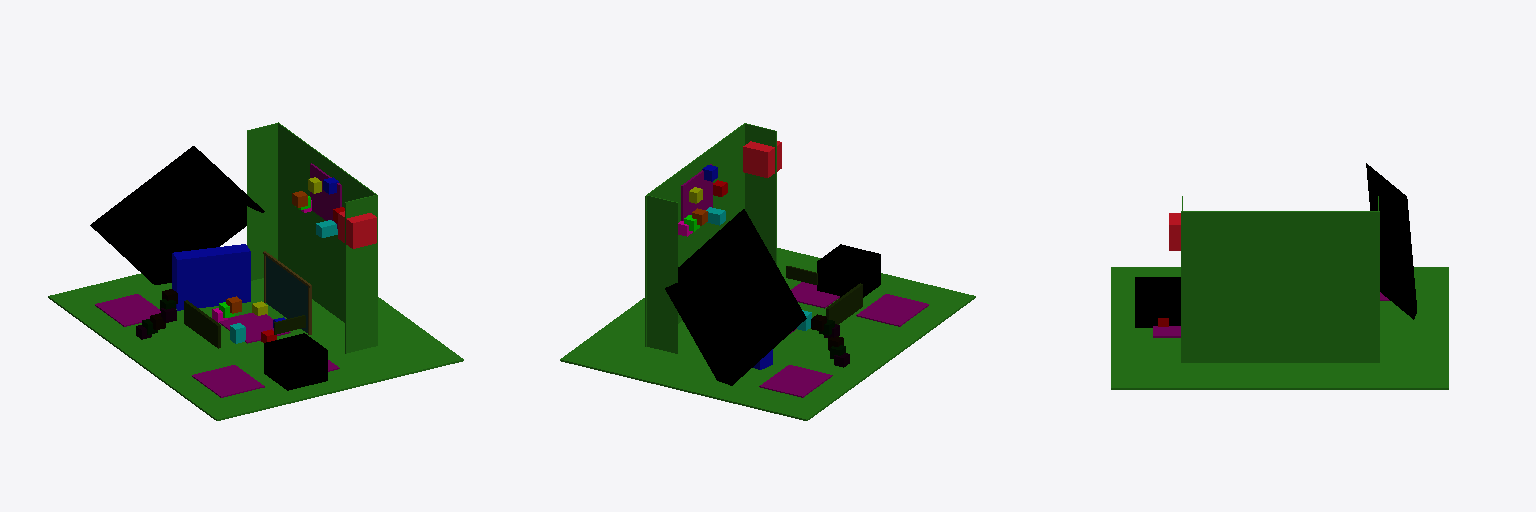
File: newSimpleSceneRefraction.obj
3 views of the same model, side by side, from view 1: azimuth 30°, elevation 25°; view 2: azimuth 150°, elevation 25°; view 3: azimuth 270°, elevation 25° (orthographic).
Visible parts, largest first — view 1: Object.01_Object.1, Plane, Object.000, Object.020, Object.011, Object.010, Cube.005_Cube.006, Cube_Cube.001, Object.022, Object.023, Cube.006_Cube.007, Cube.004_Cube.005 (+2 smaller); view 2: Object.01_Object.1, Plane, Object.000, Object.011, Cube.005_Cube.006, Object.010, Object.023, Object.022, Cube.006_Cube.007, Object.012, Cube.004_Cube.005, Object.021; view 3: Object.000, Object.01_Object.1, Plane, Cube.005_Cube.006.
Boxes of the visible parts, <box> form: Object.01_Object.1: <box>48,273,463,420</box>; Plane: <box>90,146,264,284</box>; Object.000: <box>278,122,377,345</box>; Object.020: <box>172,244,250,310</box>; Object.011: <box>247,123,277,280</box>; Object.010: <box>345,195,376,353</box>; Cube.005_Cube.006: <box>264,333,327,390</box>; Cube_Cube.001: <box>266,256,307,332</box>; Object.022: <box>192,365,264,397</box>; Object.023: <box>95,294,160,326</box>; Cube.006_Cube.007: <box>338,211,376,248</box>; Cube.004_Cube.005: <box>184,300,220,348</box>; Object.01_Object.1: <box>560,248,975,420</box>; Plane: <box>665,209,806,385</box>; Object.000: <box>645,123,744,346</box>; Object.011: <box>647,195,677,353</box>; Cube.005_Cube.006: <box>817,244,880,297</box>; Object.010: <box>745,123,776,264</box>; Object.023: <box>759,365,832,397</box>; Object.022: <box>856,294,928,326</box>; Cube.006_Cube.007: <box>743,141,781,177</box>; Object.012: <box>681,164,712,220</box>; Cube.004_Cube.005: <box>826,283,862,324</box>; Object.021: <box>791,282,839,308</box>; Object.000: <box>1181,211,1379,362</box>; Object.01_Object.1: <box>1111,267,1448,389</box>; Plane: <box>1366,163,1416,319</box>; Cube.005_Cube.006: <box>1135,277,1180,327</box>.
Size of the model in its own units: 10.24 by 6.64 by 12.12.